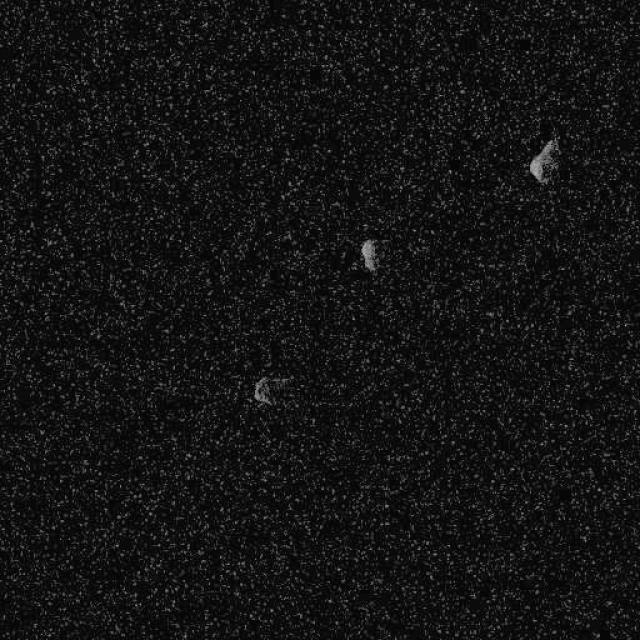D2: (528, 134, 562, 185), (253, 373, 295, 408), (359, 238, 380, 274)
